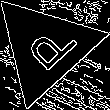P_SW: (14, 17, 77, 78)
